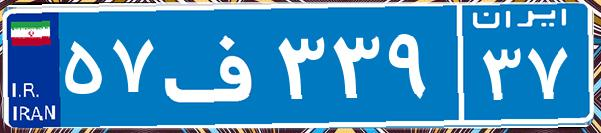3: (273, 28, 330, 110), (330, 28, 385, 110), (475, 38, 525, 113)
5: (57, 26, 110, 107)
7: (110, 28, 158, 105), (525, 38, 570, 115)
9: (385, 28, 445, 110)
ف: (158, 15, 273, 115)
